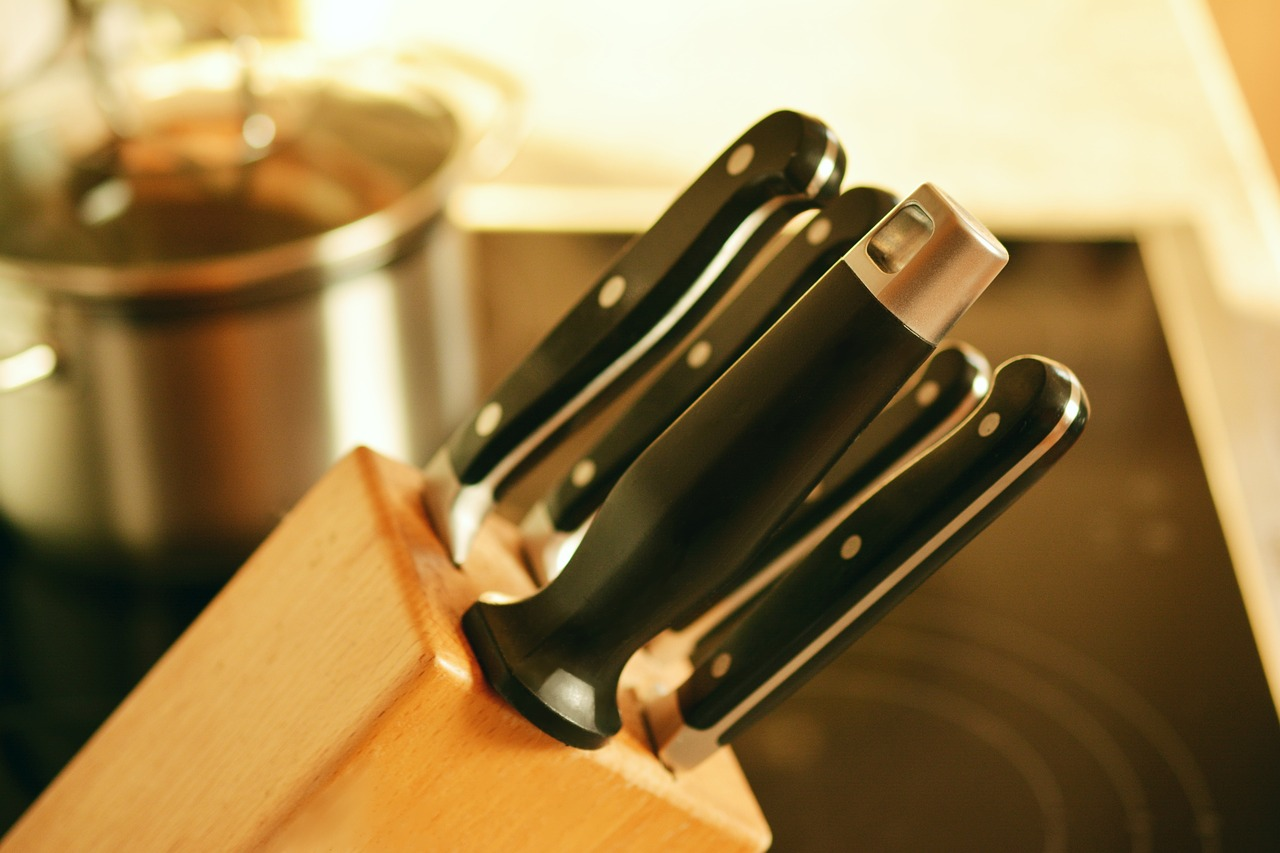knife: (459, 169, 1018, 752), (414, 91, 863, 577), (637, 359, 1094, 777), (513, 183, 909, 604), (622, 330, 991, 692)
